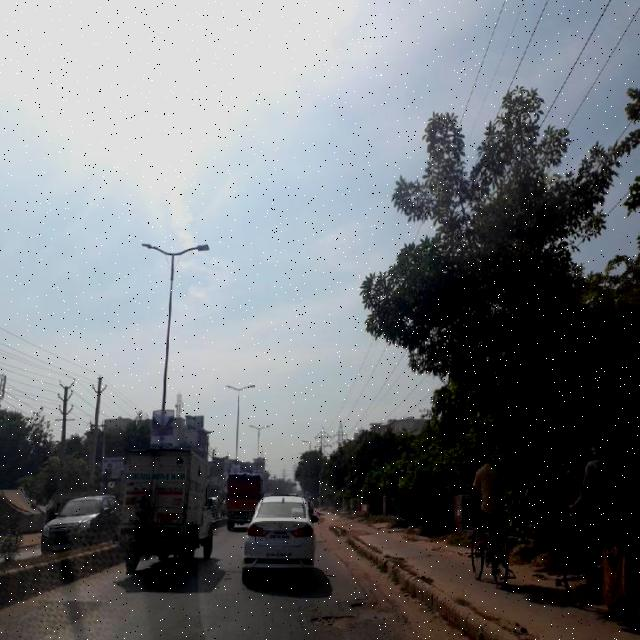D40: (300, 588, 409, 634)
